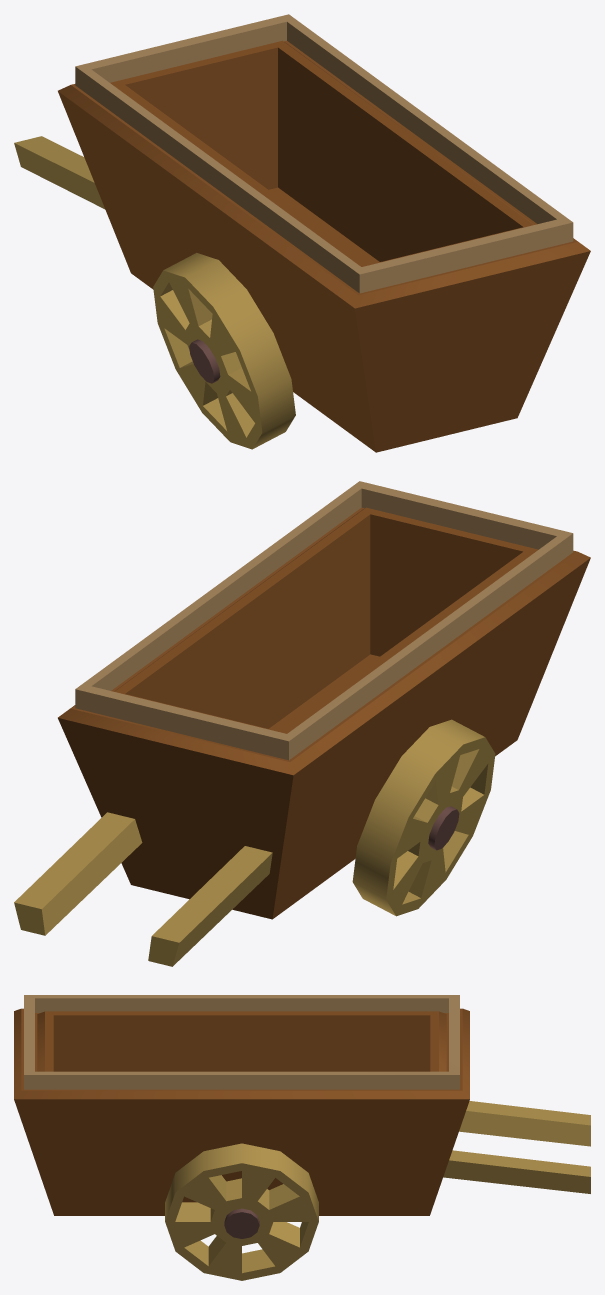
File: Wagon.fbx
3 views of the same model, one above another, from view 1: azimuth 30°, elevation 25°; view 2: azimuth 150°, elevation 25°; view 3: azimuth 270°, elevation 25° (orthographic). The views are drawn at different scales.
Visible parts, largest first — view 1: Cube, Cylinder; view 2: Cube, Cylinder; view 3: Cube, Cylinder.
Part boxes in pixels (x1,y1,x2,y2): Cube: (14, 14, 590, 452); Cylinder: (153, 253, 295, 449); Cube: (14, 481, 590, 966); Cylinder: (352, 719, 495, 916); Cube: (14, 995, 590, 1215); Cylinder: (165, 1143, 318, 1280).
Bounding box in the file's own units: 307 × 290 × 719.
